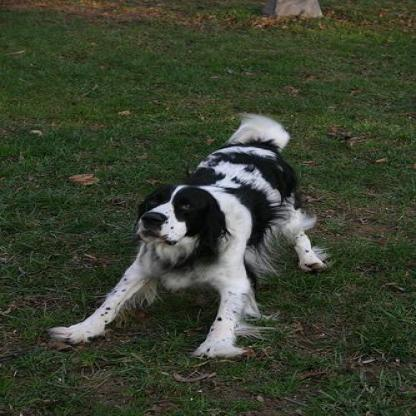English_springer: (45, 109, 326, 363)
